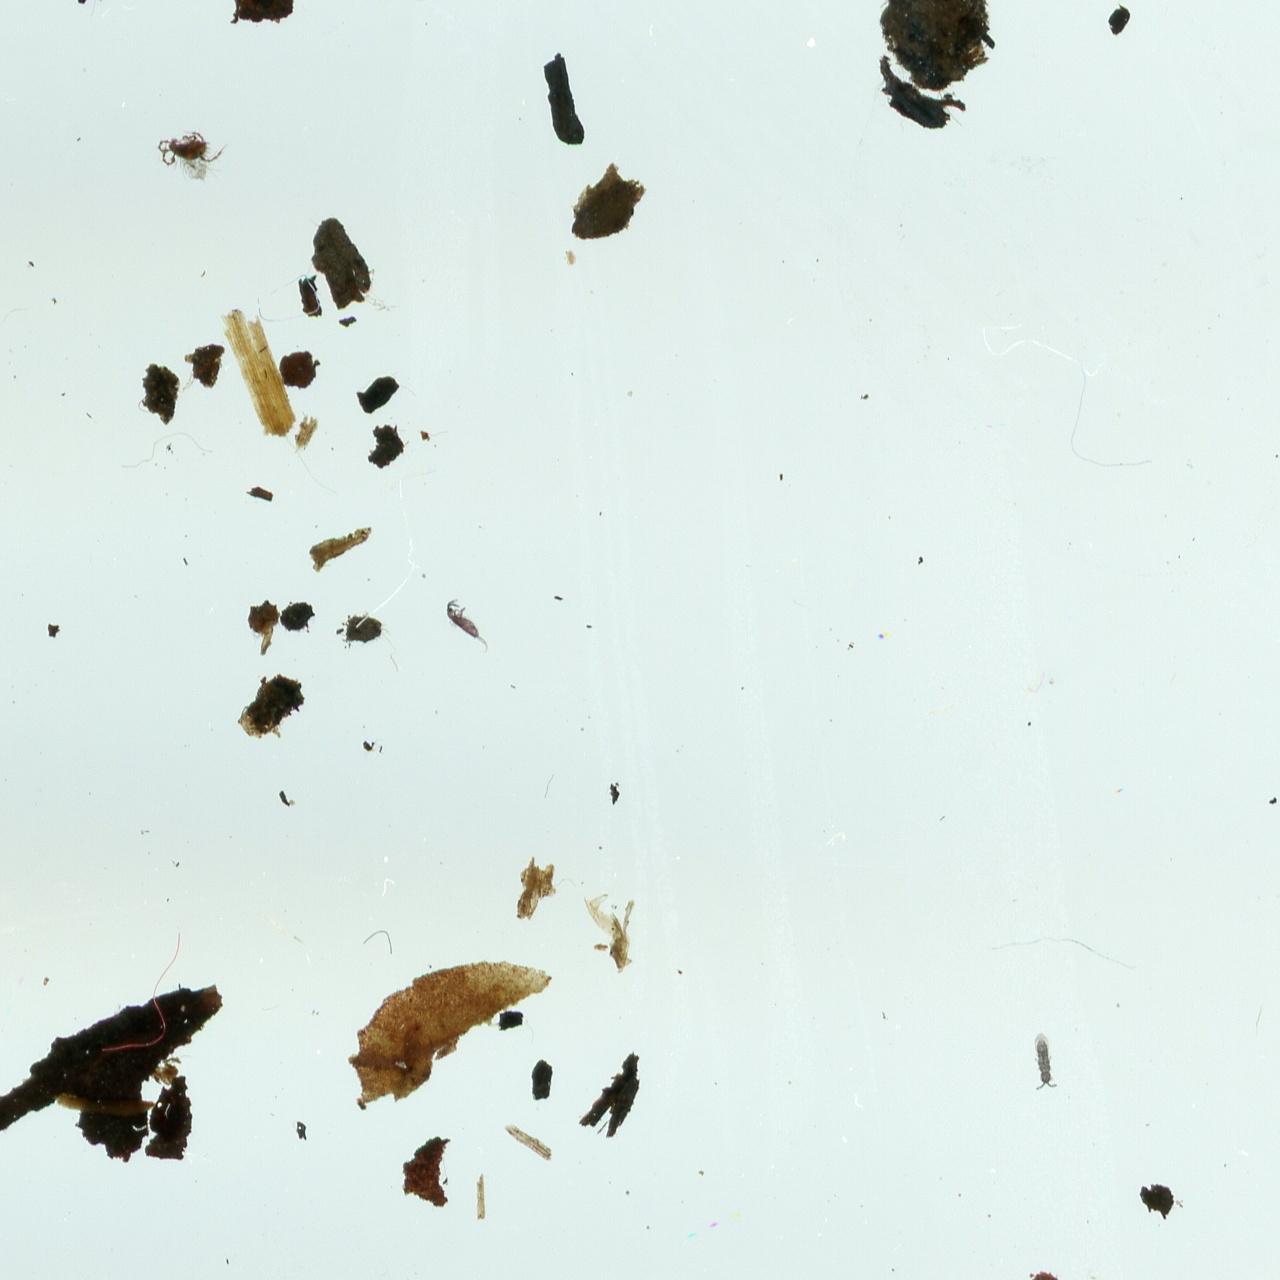arthropod: (434, 592, 506, 658), (152, 127, 230, 185), (1028, 1028, 1062, 1091)
